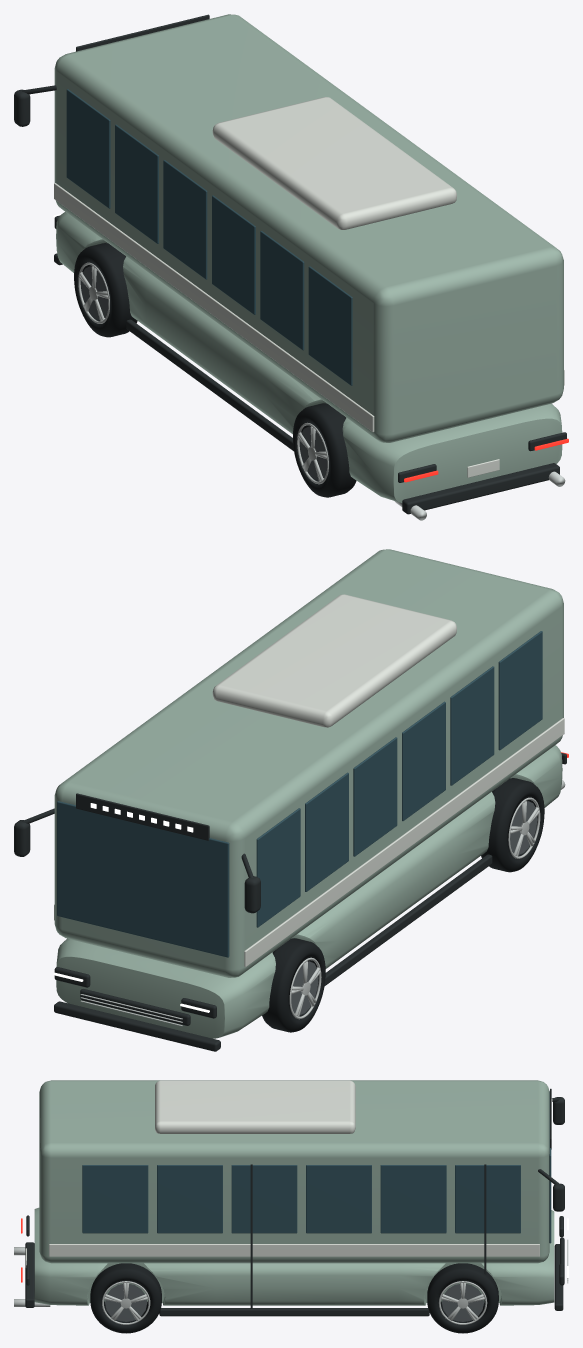
File: metro-bus.glb
3 views of the same model, one above another, from view 1: azimuth 30°, elevation 25°; view 2: azimuth 150°, elevation 25°; view 3: azimuth 270°, elevation 25° (orthographic). The views are drawn at different scales.
Visible parts, largest first — view 1: metro-bus_Paint, metro-bus_Smoked glass, metro-bus_Ivory, metro-bus_Graphite, Spin_RL.005_Rubber, Spin_FL.005_Rubber, Spin_FL.005_WheelFinish, Spin_RL.005_WheelFinish, Spin_FL.005_Brake steel, Spin_RL.005_Brake steel; view 2: metro-bus_Paint, metro-bus_Smoked glass, metro-bus_Ivory, metro-bus_Graphite, Spin_FL.005_Rubber, Spin_RL.005_Rubber, Spin_RL.005_WheelFinish, Spin_FL.005_WheelFinish, Spin_FL.005_Brake steel, Spin_RL.005_Brake steel; view 3: metro-bus_Paint, metro-bus_Smoked glass, metro-bus_Ivory, metro-bus_Graphite, Spin_RR.005_Rubber, Spin_FR.005_Rubber, Spin_FR.005_Brake steel, Spin_RR.005_Brake steel, Spin_RR.005_WheelFinish, Spin_FR.005_WheelFinish, metro-bus_Satin aluminium.
Part boxes in pixels (x1=…): metro-bus_Paint: x1=54, y1=14, x2=563, y2=502; metro-bus_Smoked glass: x1=66, y1=89, x2=352, y2=385; metro-bus_Ivory: x1=54, y1=97, x2=564, y2=477; metro-bus_Graphite: x1=14, y1=14, x2=566, y2=514; Spin_RL.005_Rubber: x1=293, y1=403, x2=356, y2=497; Spin_FL.005_Rubber: x1=74, y1=243, x2=137, y2=337; Spin_FL.005_WheelFinish: x1=78, y1=262, x2=109, y2=323; Spin_RL.005_WheelFinish: x1=297, y1=422, x2=328, y2=484; Spin_FL.005_Brake steel: x1=81, y1=266, x2=108, y2=319; Spin_RL.005_Brake steel: x1=300, y1=426, x2=327, y2=479; metro-bus_Paint: x1=54, y1=549, x2=563, y2=1038; metro-bus_Smoked glass: x1=57, y1=631, x2=542, y2=957; metro-bus_Ivory: x1=54, y1=594, x2=564, y2=966; metro-bus_Graphite: x1=14, y1=753, x2=566, y2=1051; Spin_FL.005_Rubber: x1=262, y1=938, x2=325, y2=1032; Spin_RL.005_Rubber: x1=481, y1=778, x2=544, y2=872; Spin_RL.005_WheelFinish: x1=508, y1=797, x2=540, y2=858; Spin_FL.005_WheelFinish: x1=289, y1=957, x2=321, y2=1019; Spin_FL.005_Brake steel: x1=291, y1=961, x2=318, y2=1014; Spin_RL.005_Brake steel: x1=510, y1=801, x2=537, y2=854; metro-bus_Paint: x1=34, y1=1080, x2=554, y2=1305; metro-bus_Smoked glass: x1=82, y1=1091, x2=551, y2=1243; metro-bus_Ivory: x1=25, y1=1080, x2=539, y2=1267; metro-bus_Graphite: x1=25, y1=1088, x2=564, y2=1316; Spin_RR.005_Rubber: x1=90, y1=1263, x2=161, y2=1333; Spin_FR.005_Rubber: x1=427, y1=1263, x2=498, y2=1333; Spin_FR.005_Brake steel: x1=442, y1=1284, x2=484, y2=1321; Spin_RR.005_Brake steel: x1=105, y1=1284, x2=147, y2=1321; Spin_RR.005_WheelFinish: x1=102, y1=1281, x2=150, y2=1324; Spin_FR.005_WheelFinish: x1=439, y1=1281, x2=487, y2=1324; metro-bus_Satin aluminium: x1=14, y1=1239, x2=568, y2=1306.
Bounding box in the file's own units: 3.01 × 3 × 7.74.
